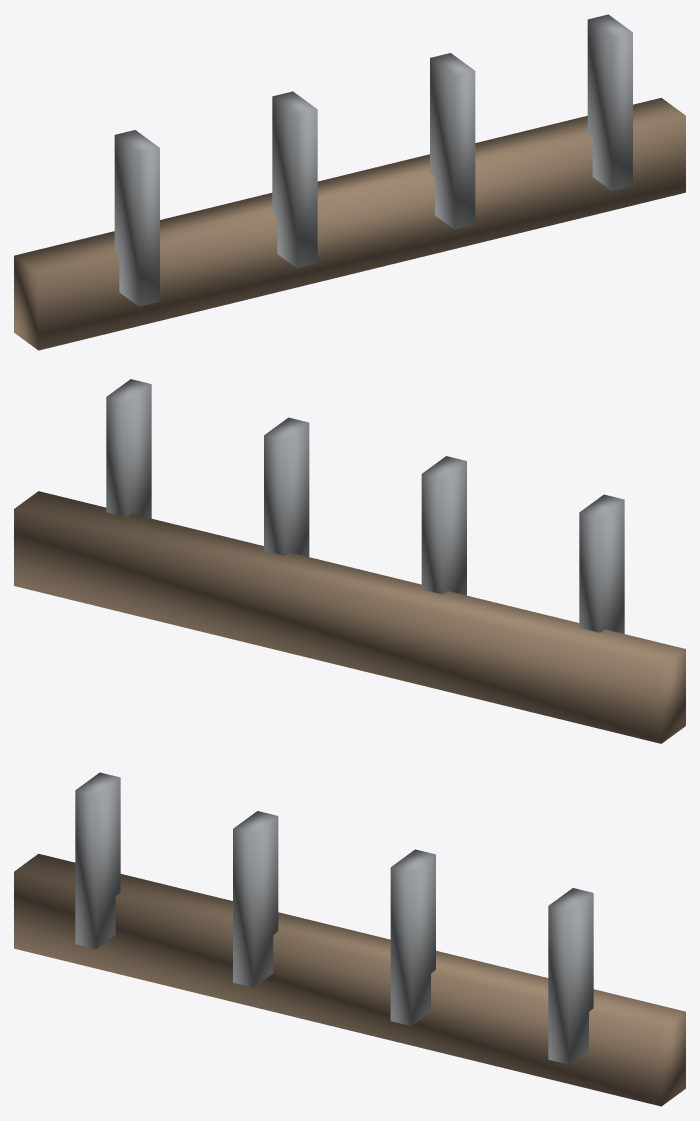
Rendered from coat_hook_rail__compact.glb.
3 renders of one model, top to bottom at view 1: azimuth 30°, elevation 25°; view 2: azimuth 150°, elevation 25°; view 3: azimuth 330°, elevation 25°, orthographic.
Visible parts, largest first — view 1: world; view 2: world; view 3: world.
Boxes of the visible parts, x1=… form: world: x1=14, y1=14, x2=685, y2=350; world: x1=14, y1=379, x2=685, y2=743; world: x1=14, y1=772, x2=685, y2=1106.
Size of the model in its own units: 0.6552 by 0.186 by 0.0774.
